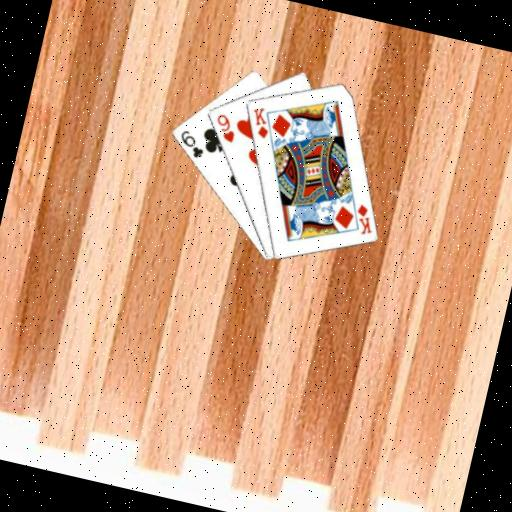6C: (173, 126, 209, 161)
9H: (209, 110, 241, 145)
KD: (245, 102, 276, 141), (349, 200, 379, 238)
